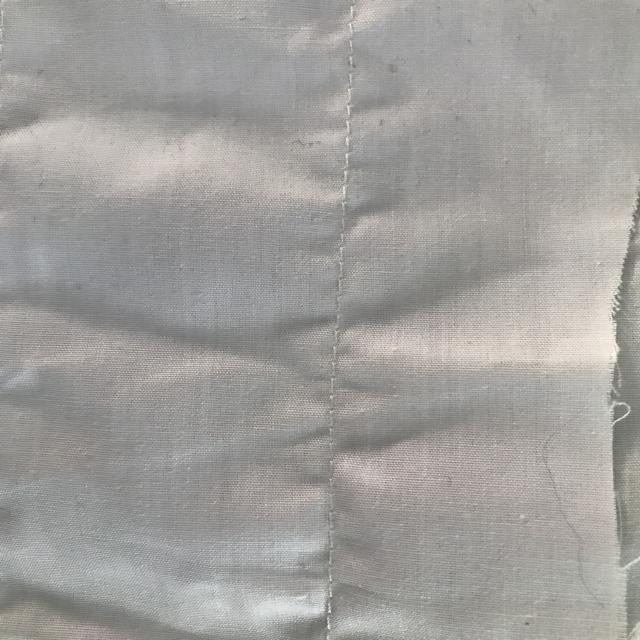good: (324, 62, 392, 166)
